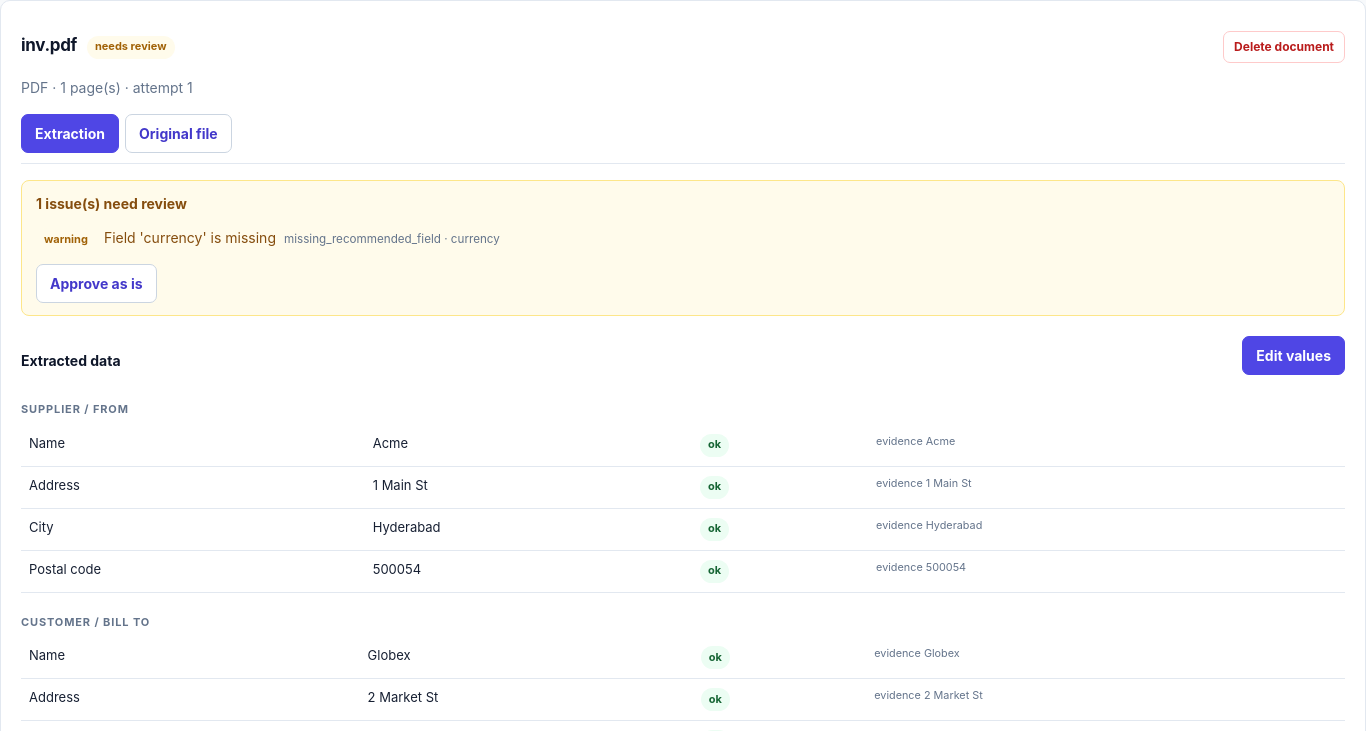
DocumentDetail › refuses to save when nothing changed
Click the button "Edit values".
click(1294, 355)  # box top-left (1242, 336), bottom-right (1345, 375)
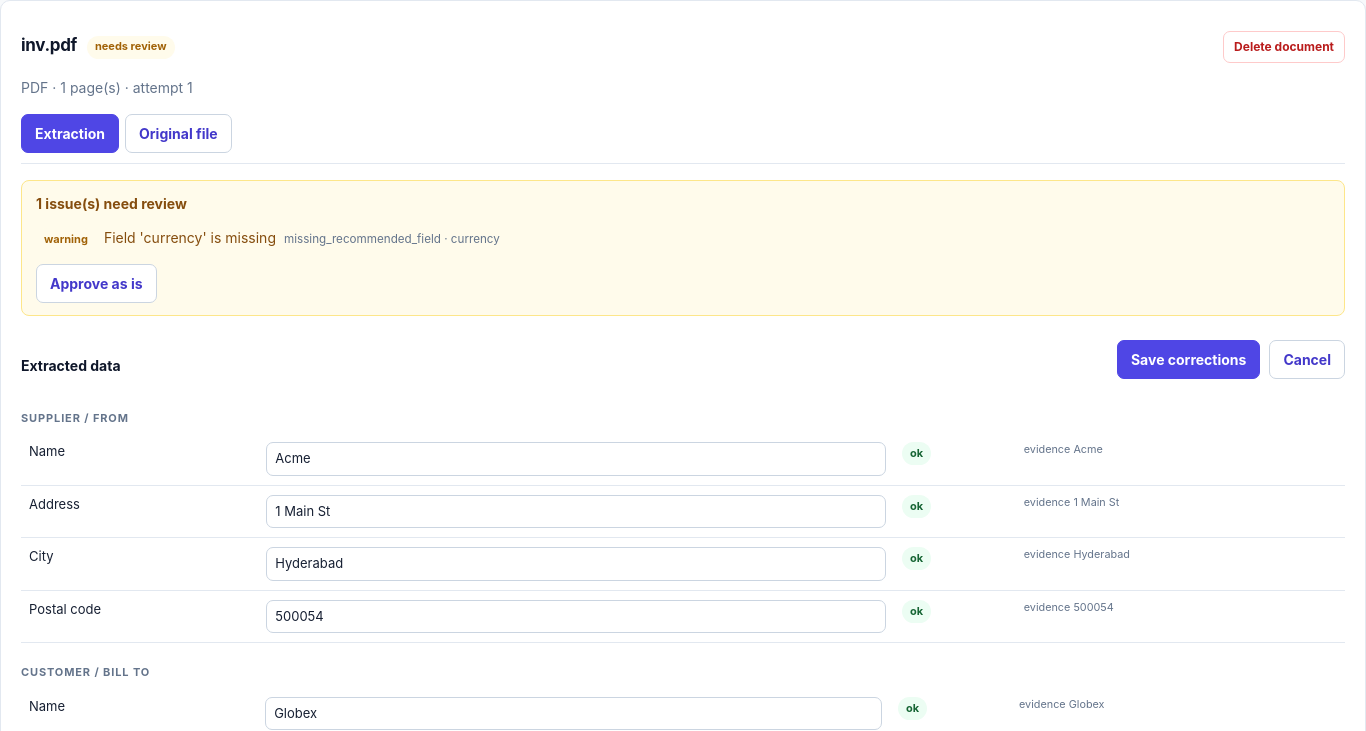
Click the button "Save corrections".
click(1189, 360)  # box top-left (1117, 340), bottom-right (1260, 379)
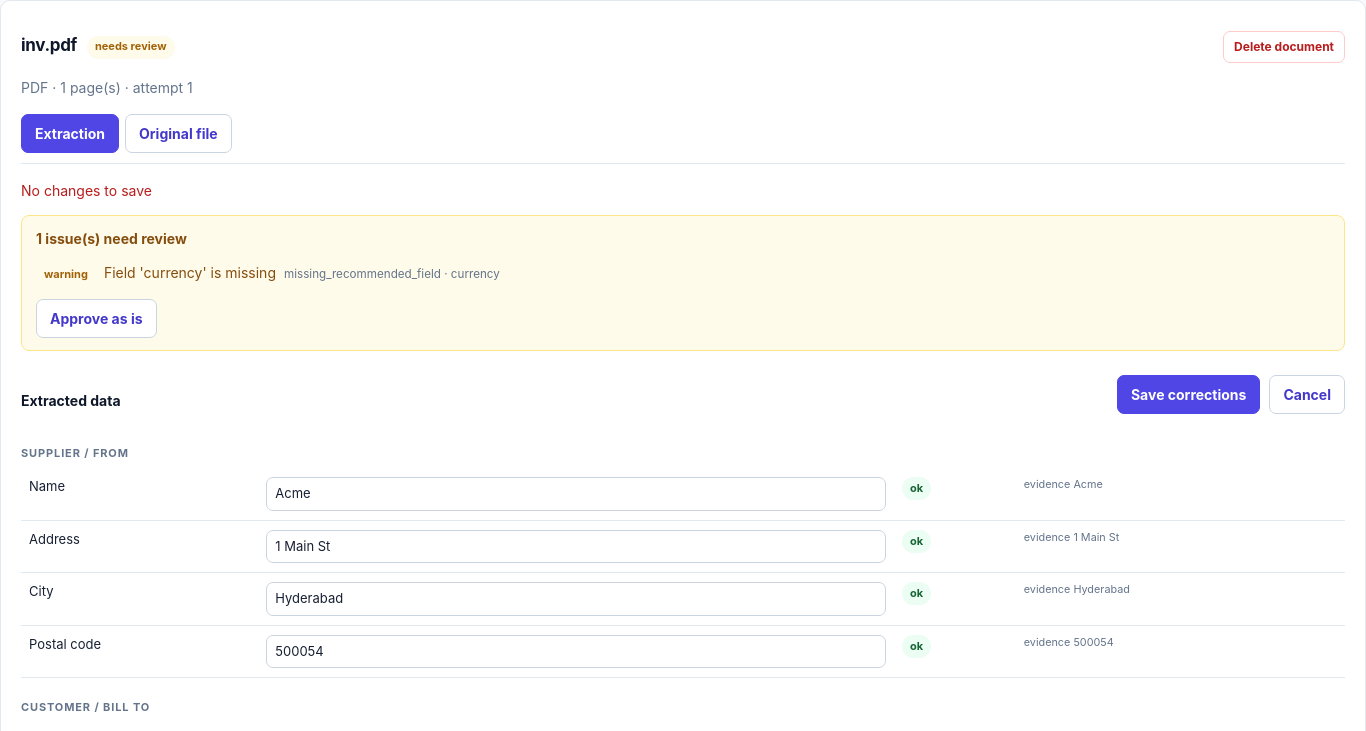
Expected: the message shows "No changes", top-left (21, 182), bottom-right (152, 199)
